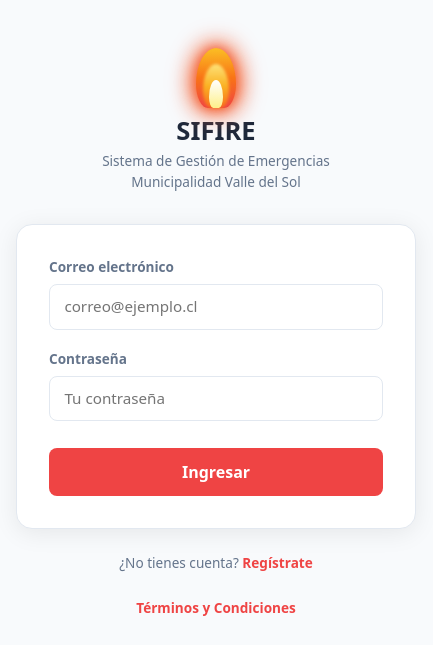
Test case: Login — validaciones del formulario › muestra error si la contraseña esta vacia
Step 1. Type "mati@sifire.cl" into the field labelled "Correo electrónico" → {"x": 216, "y": 307}, box 49,284 -> 383,330
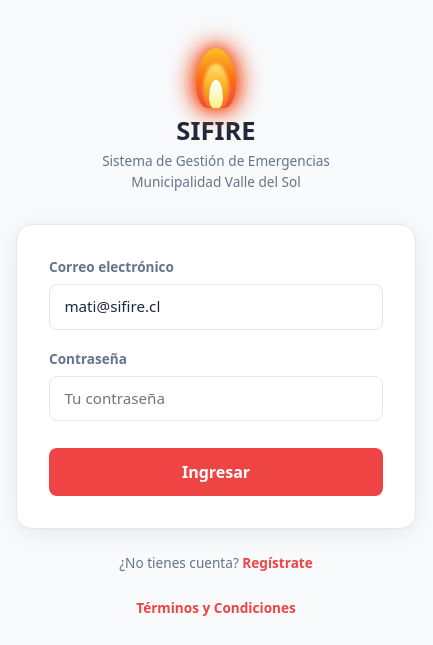
Step 2. Click the button "Ingresar" → {"x": 216, "y": 472}, box 49,448 -> 383,496
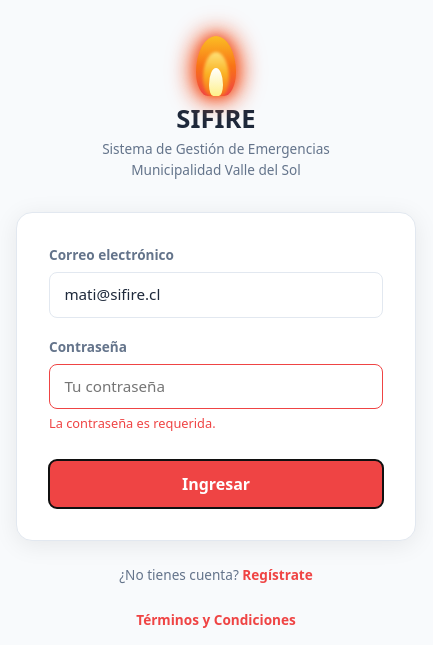
Now the text "La contraseña es requerida." is shown, box 49,414 -> 216,432
